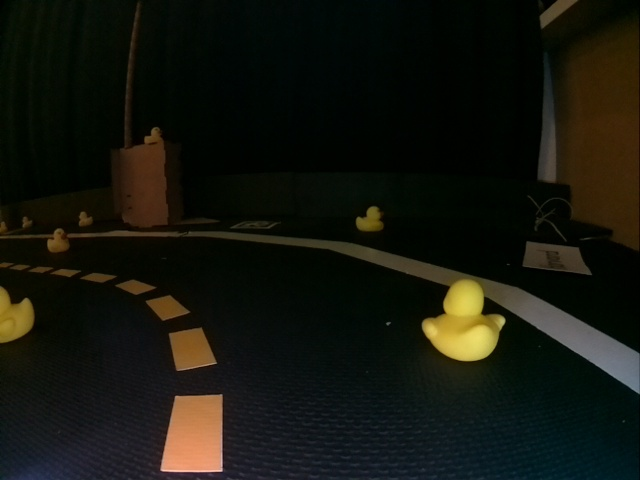Duckie: (421, 282, 506, 360), (4, 283, 32, 341), (356, 206, 383, 232), (47, 228, 70, 252), (144, 126, 162, 144), (77, 211, 92, 228), (22, 215, 31, 224)
QR code: (236, 220, 274, 231)
